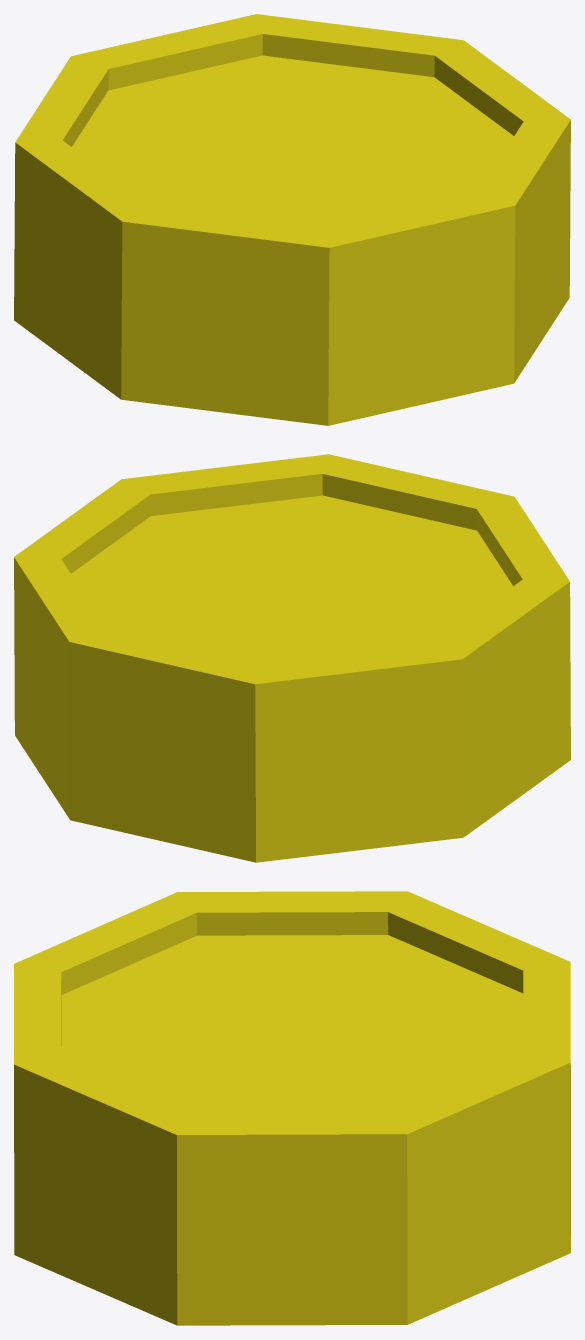
Rendered from stack.fbx.
The picture shows the model from 3 angles, top to bottom: view 1: azimuth 30°, elevation 25°; view 2: azimuth 150°, elevation 25°; view 3: azimuth 270°, elevation 25°; orthographic projection. The views are drawn at different scales.
Visible parts, largest first — view 1: Цилиндр.003; view 2: Цилиндр.003; view 3: Цилиндр.003.
Boxes of the visible parts, x1,y1,x2,y2 form: Цилиндр.003: (14, 14, 570, 425); Цилиндр.003: (14, 454, 570, 862); Цилиндр.003: (14, 891, 570, 1325).
Size of the model in its own units: 69.92 by 27.63 by 69.81.
